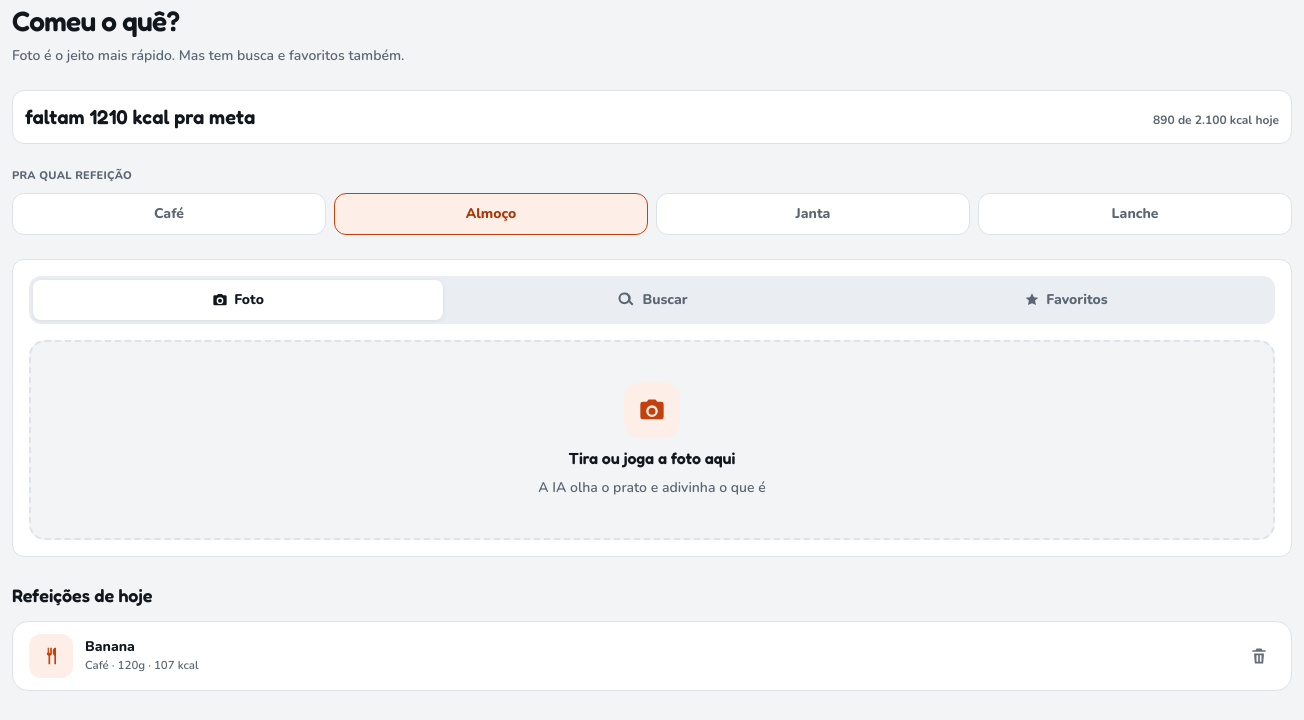
Scenario: NutritionPage favourites tab › loads favourites only once the tab is opened
What coordinates should you click on to do the following:
click the button "Favoritos"
I would click on:
 (1066, 300)
Its box is [861,280,1271,320].
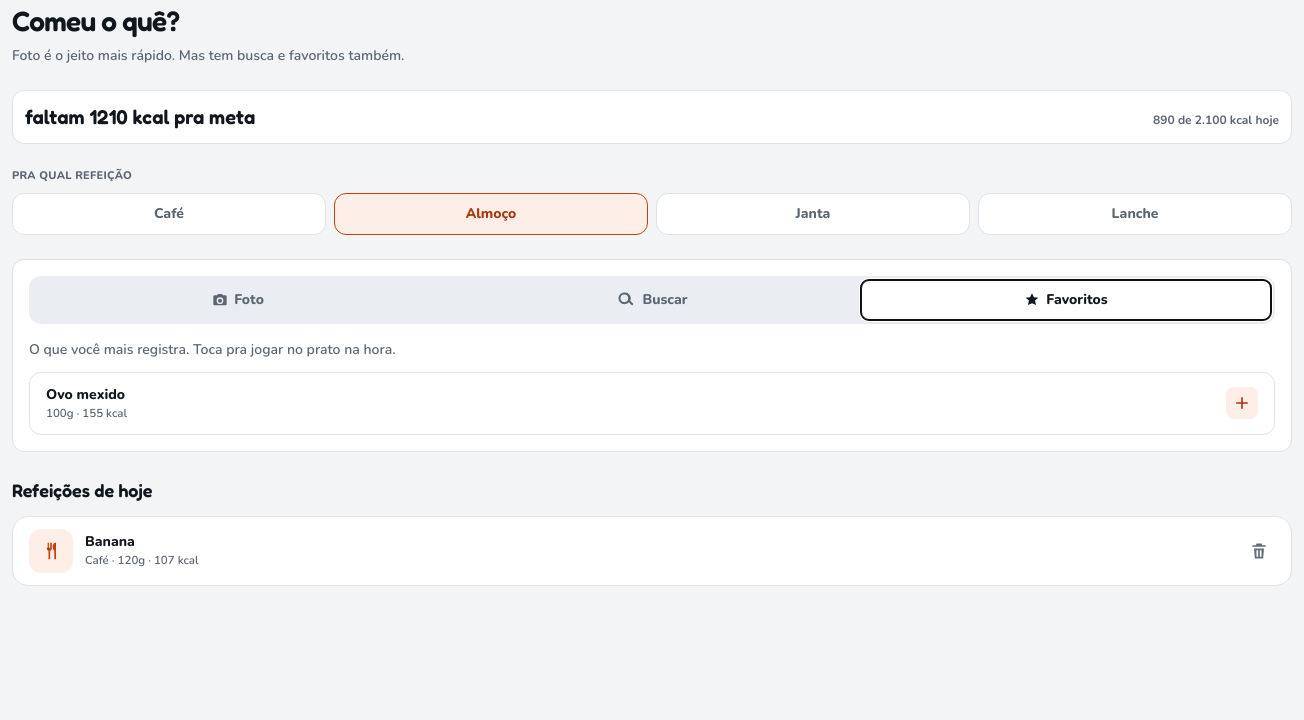
Check: the text "Ovo mexido" is shown, box [46,384,125,404]
